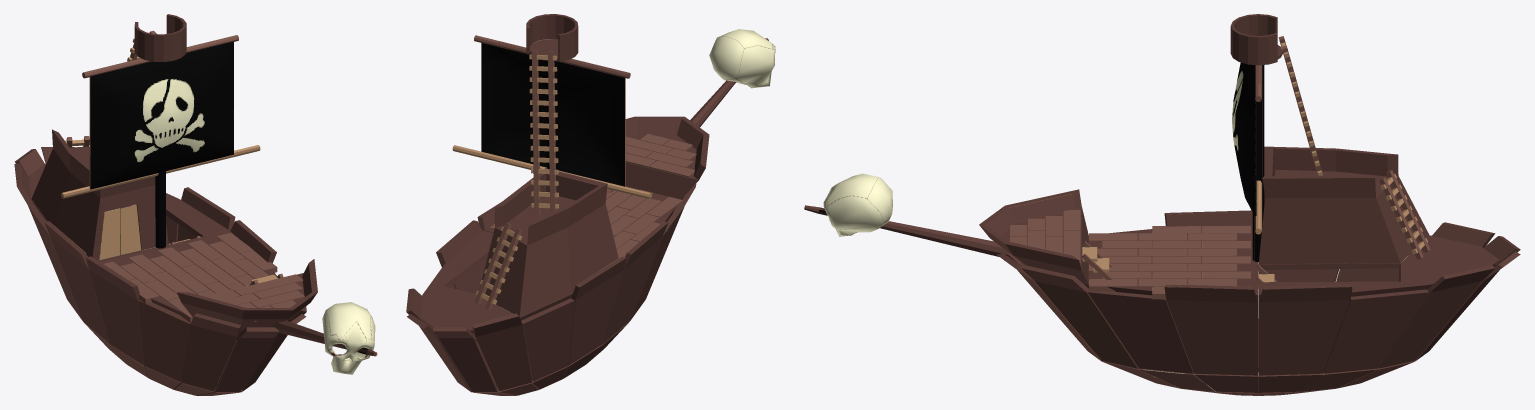
The model's file is enemy ship.fbx.
3 views of the same model, side by side, from view 1: azimuth 30°, elevation 25°; view 2: azimuth 150°, elevation 25°; view 3: azimuth 270°, elevation 25° (orthographic). The views are drawn at different scales.
Visible parts, largest first — view 1: EnemyShip.107, EnemyShip.086, EnemyShip.023, EnemyShip.019, EnemyShip.021, EnemyShip.102, EnemyShip.087, EnemyShip.025, EnemyShip.017, EnemyShip.058, EnemyShip.085, EnemyShip.033 (+32 smaller); view 2: EnemyShip.107, EnemyShip.086, EnemyShip.085, EnemyShip.087, EnemyShip.025, EnemyShip.037, EnemyShip.027, EnemyShip.102, EnemyShip.023, EnemyShip.039, EnemyShip.058, EnemyShip.007 (+19 smaller); view 3: EnemyShip.086, EnemyShip.009, EnemyShip.007, EnemyShip.005, EnemyShip.011, EnemyShip.085, EnemyShip.087, EnemyShip.003, EnemyShip.013, EnemyShip.102, EnemyShip.107, EnemyShip.058 (+13 smaller).
Boxes of the visible parts, x1=… form: EnemyShip.107: x1=89, y1=41, x2=233, y2=189; EnemyShip.086: x1=31, y1=129, x2=168, y2=260; EnemyShip.023: x1=86, y1=256, x2=143, y2=364; EnemyShip.019: x1=181, y1=313, x2=240, y2=391; EnemyShip.021: x1=138, y1=300, x2=190, y2=381; EnemyShip.102: x1=322, y1=302, x2=375, y2=374; EnemyShip.087: x1=177, y1=259, x2=317, y2=329; EnemyShip.025: x1=44, y1=221, x2=109, y2=343; EnemyShip.017: x1=215, y1=327, x2=279, y2=391; EnemyShip.058: x1=134, y1=14, x2=186, y2=61; EnemyShip.085: x1=29, y1=163, x2=227, y2=261; EnemyShip.033: x1=100, y1=230, x2=291, y2=332; EnemyShip.107: x1=481, y1=43, x2=625, y2=186; EnemyShip.086: x1=479, y1=168, x2=618, y2=317; EnemyShip.085: x1=420, y1=230, x2=572, y2=333; EnemyShip.087: x1=625, y1=116, x2=709, y2=199; EnemyShip.025: x1=569, y1=256, x2=626, y2=364; EnemyShip.037: x1=472, y1=313, x2=531, y2=391; EnemyShip.027: x1=521, y1=298, x2=574, y2=381; EnemyShip.102: x1=709, y1=29, x2=775, y2=88; EnemyShip.023: x1=603, y1=221, x2=668, y2=343; EnemyShip.039: x1=433, y1=327, x2=497, y2=391; EnemyShip.058: x1=526, y1=14, x2=578, y2=61; EnemyShip.007: x1=436, y1=220, x2=486, y2=293; EnemyShip.086: x1=1259, y1=146, x2=1429, y2=263; EnemyShip.009: x1=1164, y1=284, x2=1258, y2=375; EnemyShip.007: x1=1258, y1=284, x2=1352, y2=375; EnemyShip.005: x1=1323, y1=289, x2=1428, y2=373; EnemyShip.011: x1=1087, y1=291, x2=1193, y2=373; EnemyShip.085: x1=1258, y1=235, x2=1499, y2=297; EnemyShip.087: x1=979, y1=189, x2=1088, y2=284; EnemyShip.003: x1=1378, y1=265, x2=1495, y2=368; EnemyShip.013: x1=1021, y1=265, x2=1138, y2=368; EnemyShip.102: x1=823, y1=173, x2=892, y2=236; EnemyShip.107: x1=1232, y1=62, x2=1256, y2=216; EnemyShip.058: x1=1230, y1=14, x2=1282, y2=65.
Size of the model in its own units: 1532 by 2558 by 4583.
